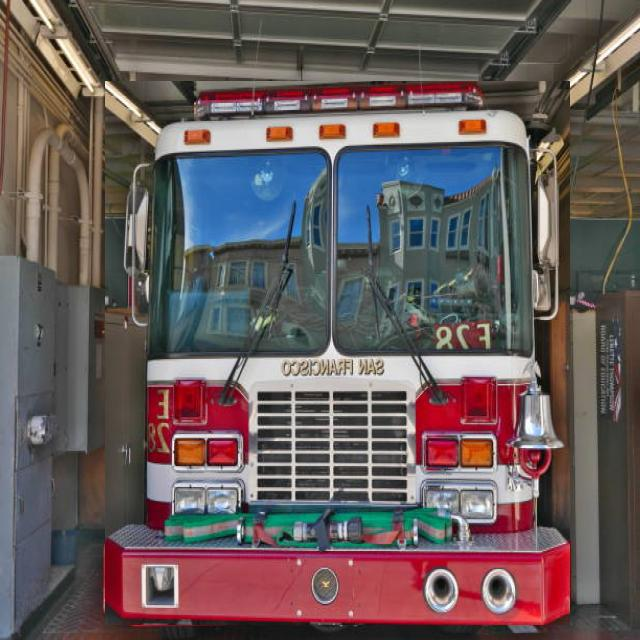emergency: (105, 82, 570, 625)
